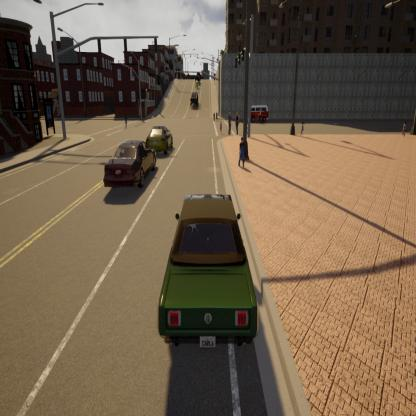Cars: (148, 185, 262, 353), (103, 135, 162, 198), (143, 122, 178, 162), (245, 101, 270, 126), (188, 90, 200, 110), (193, 78, 200, 89)
Pedestrian: (237, 133, 249, 173), (122, 108, 130, 133), (401, 116, 408, 142), (227, 110, 233, 138), (234, 110, 240, 136), (218, 119, 225, 138), (299, 117, 304, 136), (215, 108, 219, 122), (213, 110, 216, 122)
